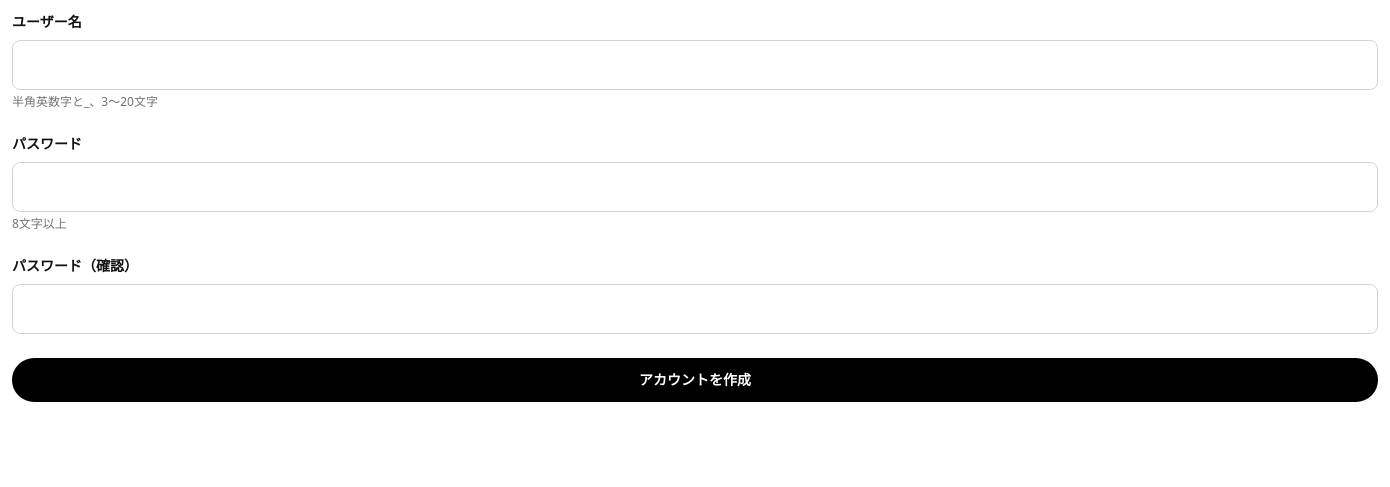
Test case: shows a 429 above the form
Step 1. Type "takumi" into the field labelled "ユーザー名" → coordinates (695, 65), box x1=12 y1=40 x2=1378 y2=90
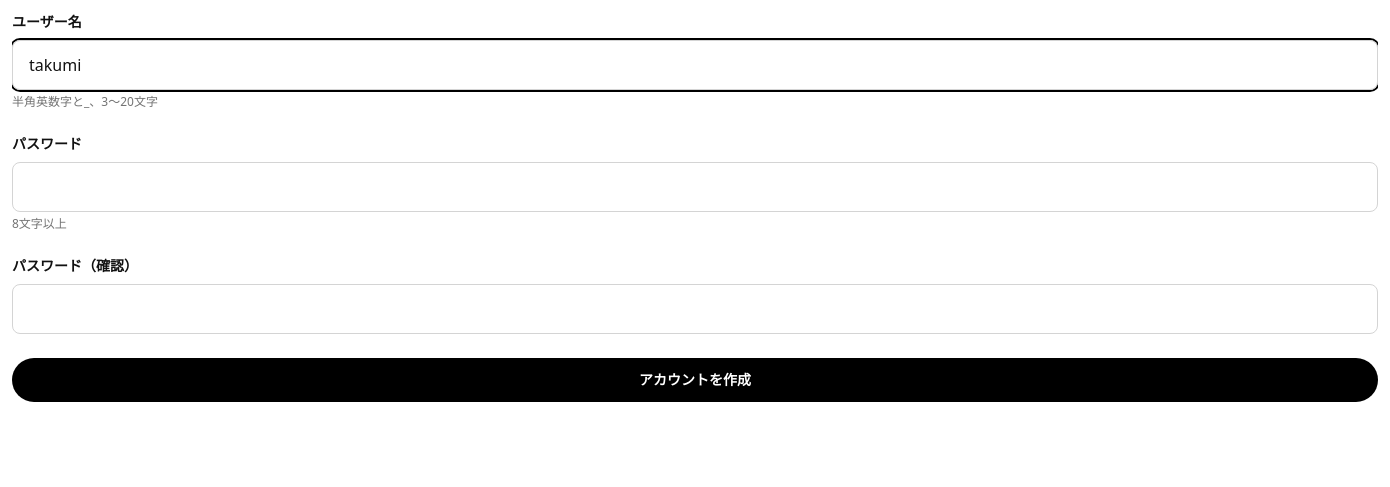
Step 2. Type "password123" into the password field labelled "パスワード" → coordinates (695, 187), box x1=12 y1=162 x2=1378 y2=212
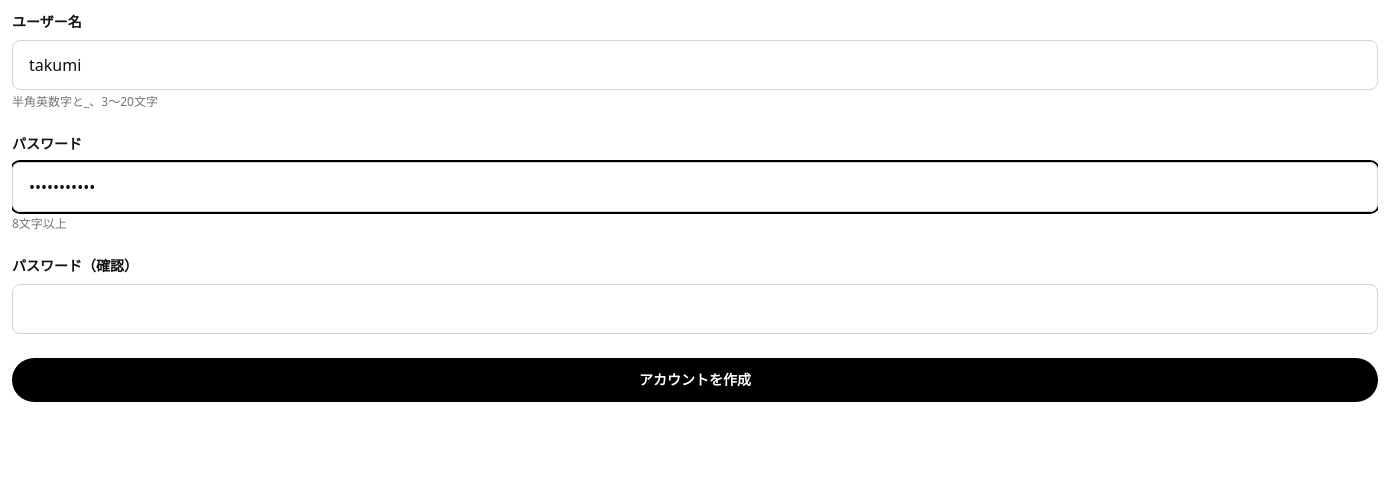
Step 3. Type "password123" into the password field labelled "パスワード（確認）" → coordinates (695, 309), box x1=12 y1=284 x2=1378 y2=334
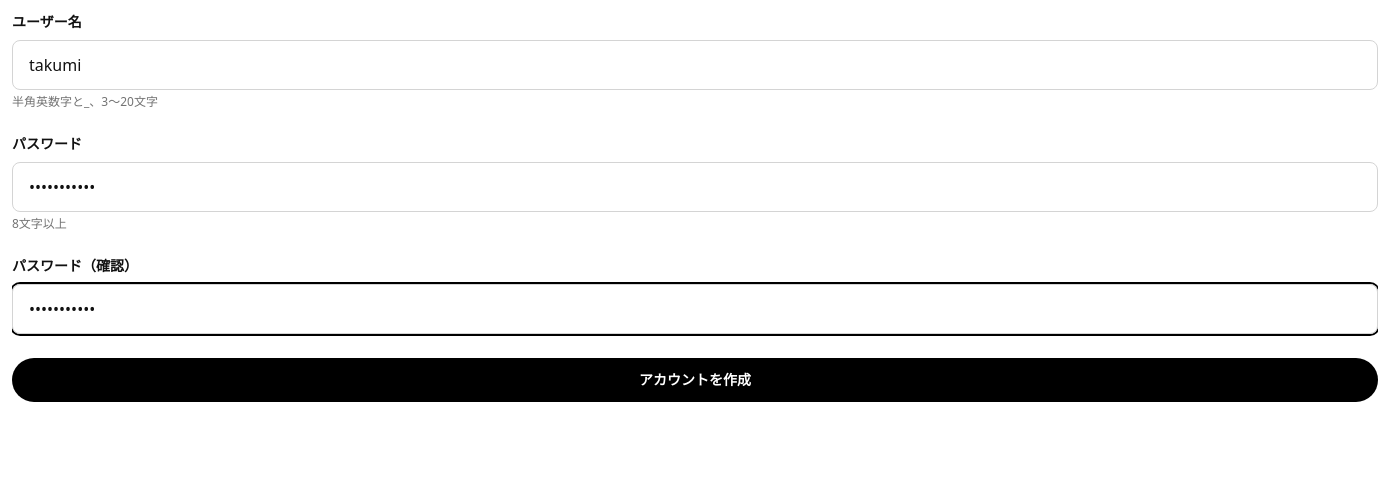
Step 4. Click the button "アカウントを作成" → coordinates (695, 380), box x1=12 y1=358 x2=1378 y2=402
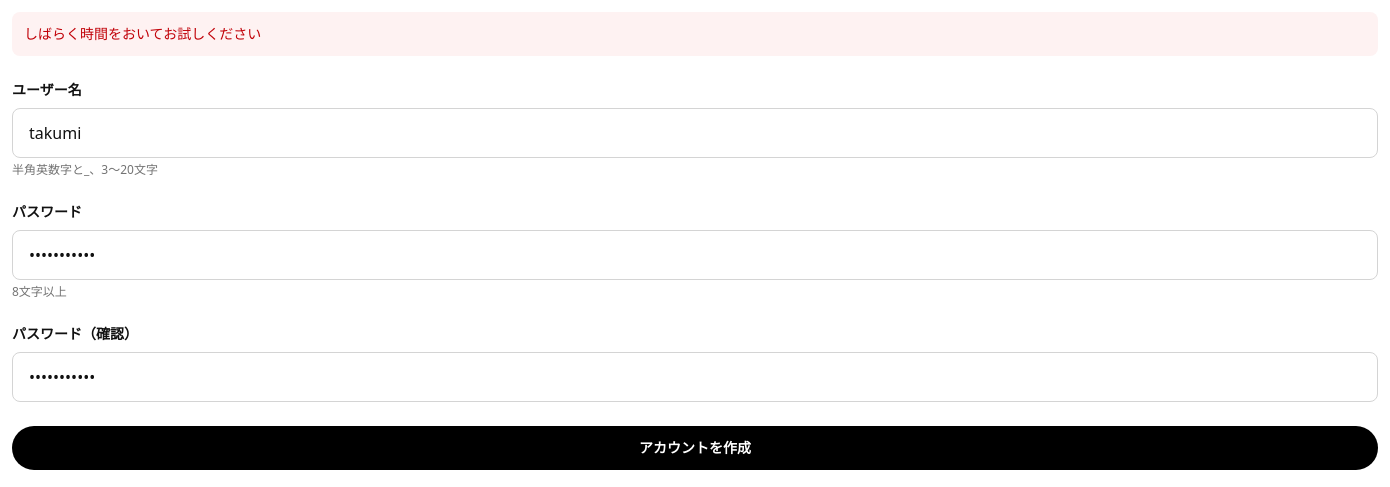
Check: the message reads "しばらく時間をおいてお試しください", box x1=24 y1=24 x2=261 y2=43
